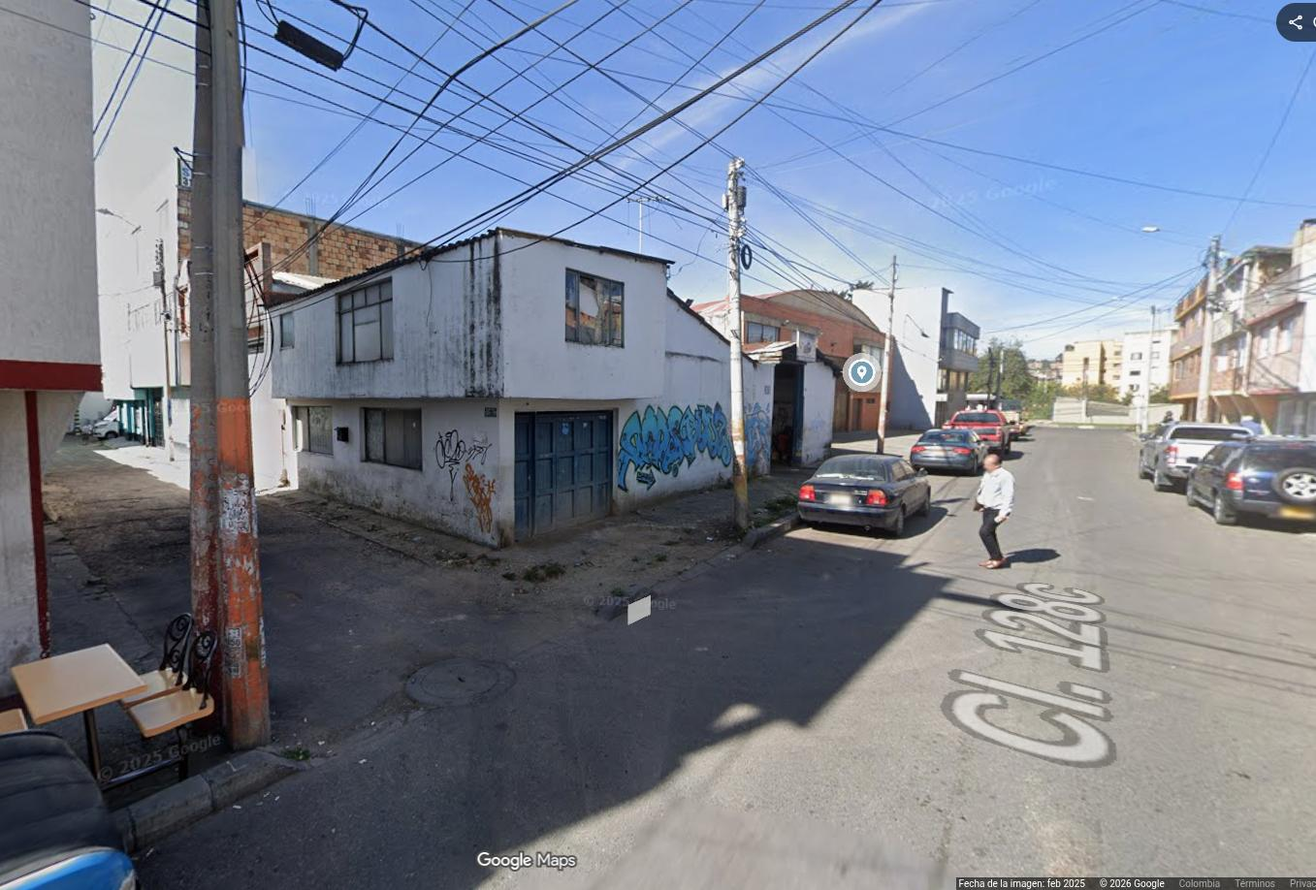casa: (269, 228, 732, 546)
poste: (192, 0, 270, 748), (723, 157, 750, 530), (1195, 236, 1219, 421), (877, 330, 894, 452), (887, 255, 897, 328), (1142, 226, 1163, 233)
